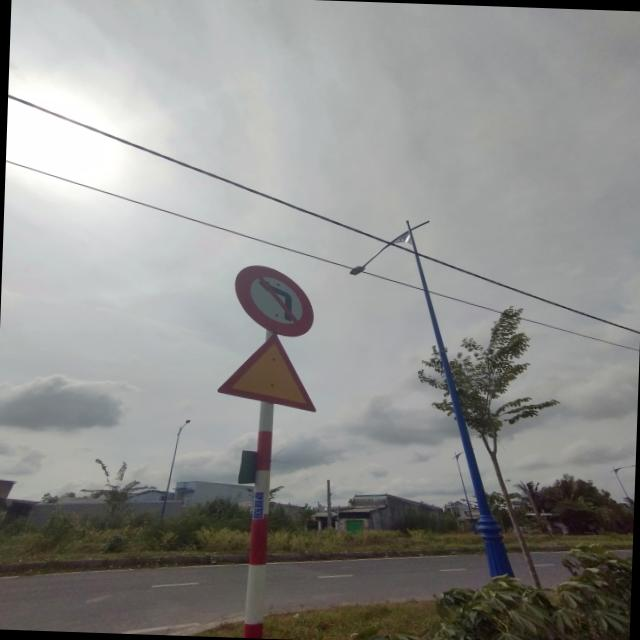Cam_Re_Trai: (232, 264, 316, 337)
Gioi_Han_Toc_Do_25: (214, 330, 318, 412)
